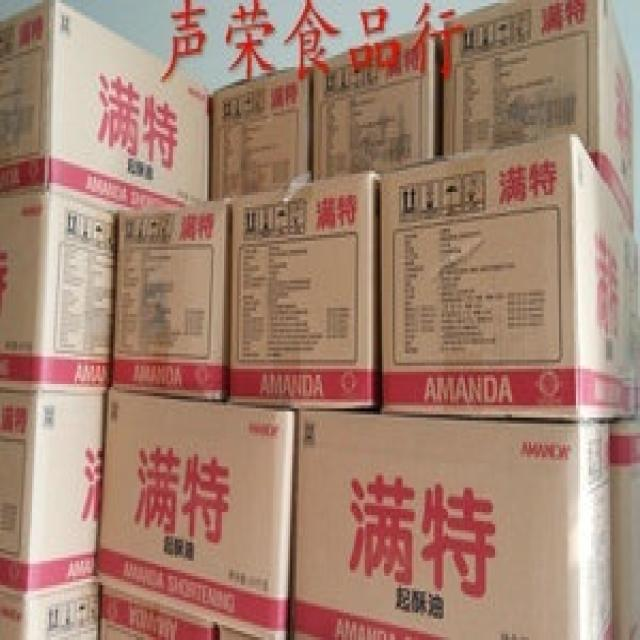box: (290, 411, 614, 640), (382, 134, 640, 421), (96, 390, 297, 640), (444, 0, 634, 235), (228, 171, 382, 408), (0, 192, 117, 393), (109, 201, 226, 402), (0, 390, 107, 597), (311, 24, 444, 183), (211, 64, 311, 201), (610, 418, 640, 640), (100, 585, 218, 640), (0, 579, 102, 640)
